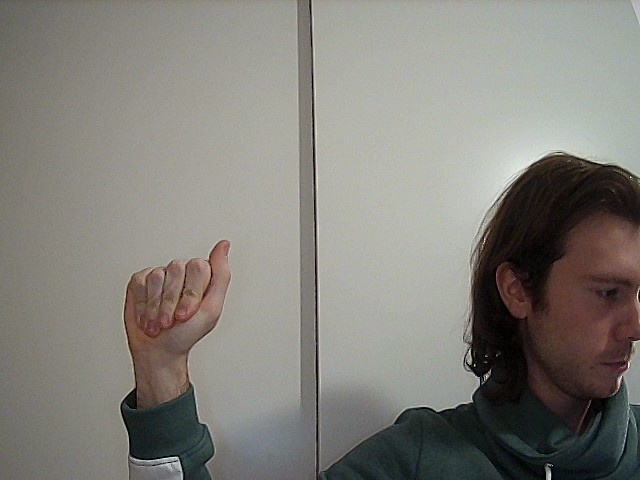a: (105, 237, 252, 357)
